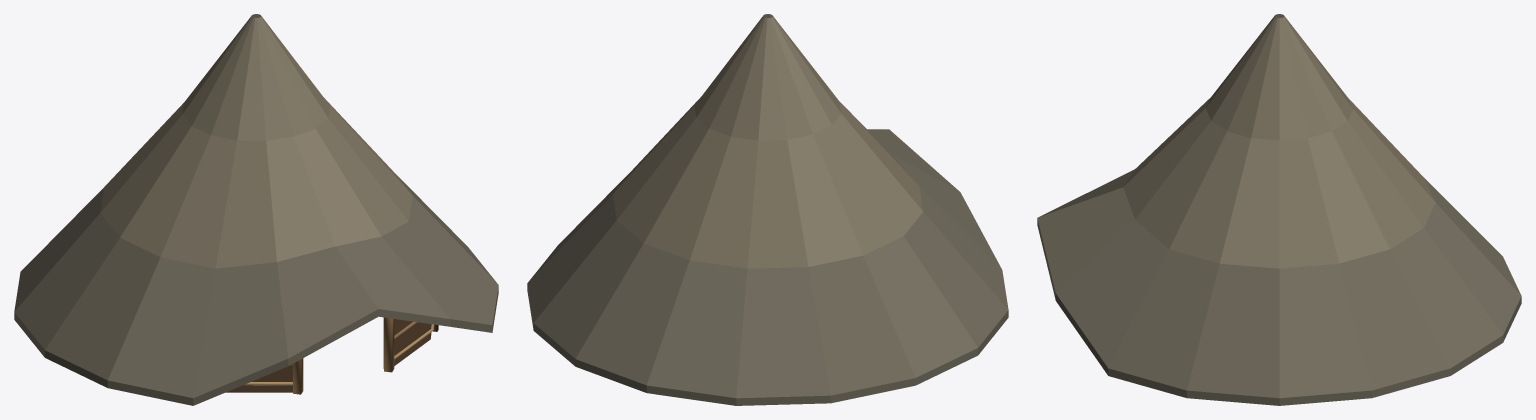
File: swept_thatch_roundhouse_lod1.glb
3 renders of one model, left to right at view 1: azimuth 30°, elevation 25°; view 2: azimuth 150°, elevation 25°; view 3: azimuth 270°, elevation 25°, orthographic.
Parts seen in each view (by area): view 1: swept_thatch_roundhouse.001; view 2: swept_thatch_roundhouse.001; view 3: swept_thatch_roundhouse.001.
Part boxes in pixels (x1=…): swept_thatch_roundhouse.001: x1=14, y1=14, x2=498, y2=405; swept_thatch_roundhouse.001: x1=527, y1=14, x2=1008, y2=405; swept_thatch_roundhouse.001: x1=1037, y1=14, x2=1521, y2=405.
Size of the model in its own units: 5.44 by 3.71 by 5.44.
